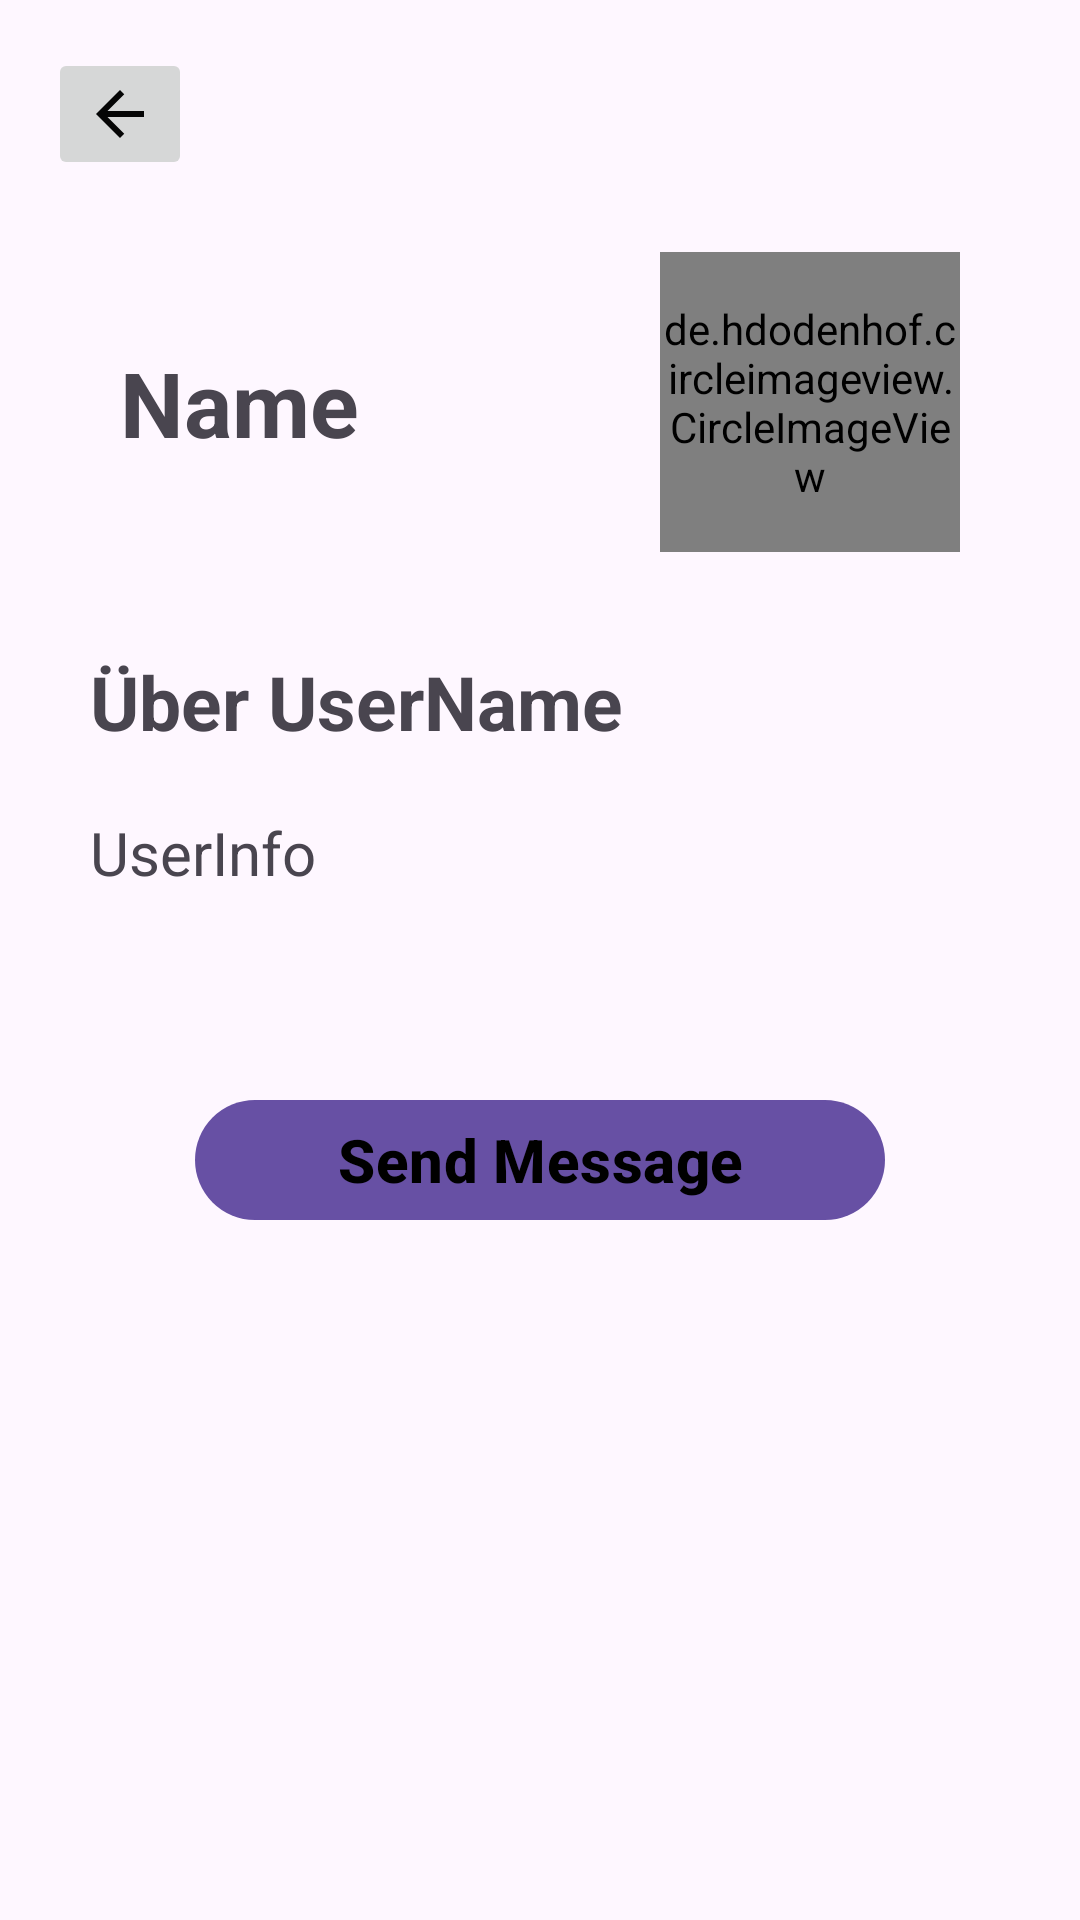

Icons on this 1080*1920 Android screen, each with the point to tap as [x,y]:
back: [120,114]
